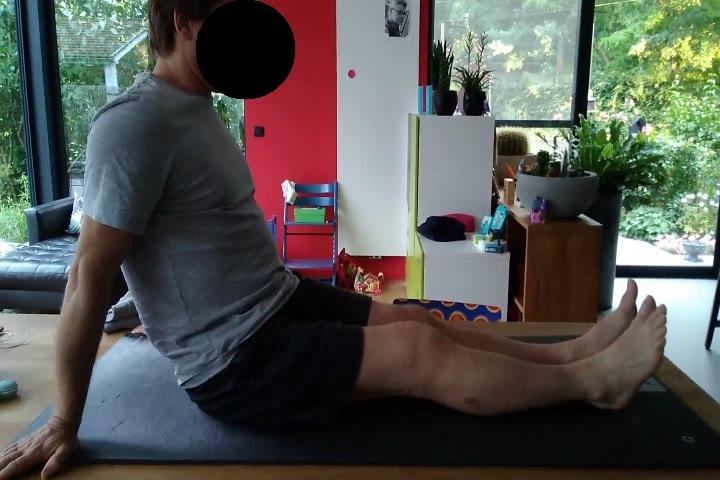lower_body: (185, 277, 671, 424)
